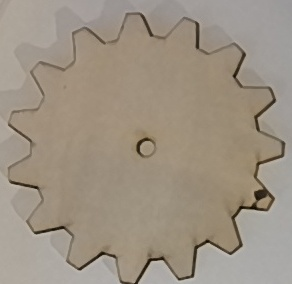Points: (252, 186, 269, 211)
